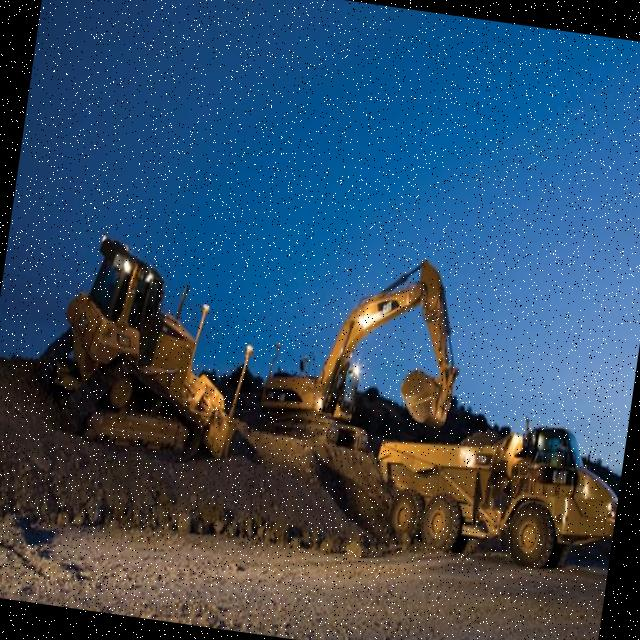Bulldozer: (25, 222, 282, 476)
Dump Truck: (367, 413, 626, 590)
Excavator: (259, 194, 483, 452)
